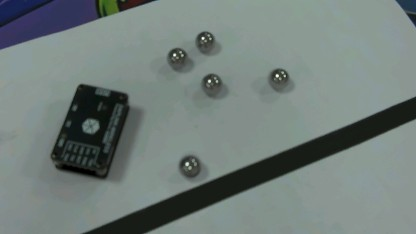ironball: (267, 65, 294, 90), (194, 25, 215, 56), (198, 71, 224, 92), (179, 150, 200, 175), (163, 46, 187, 66)
